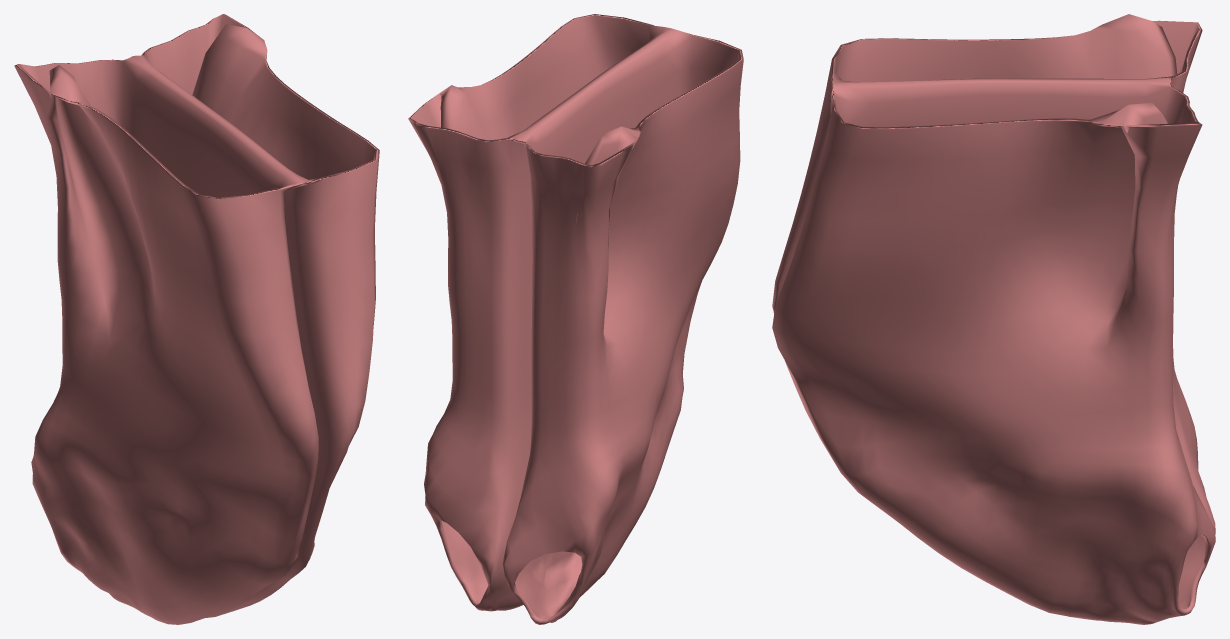
The picture shows the model from 3 angles, left to right: view 1: azimuth 30°, elevation 25°; view 2: azimuth 150°, elevation 25°; view 3: azimuth 270°, elevation 25°; orthographic projection. The views are drawn at different scales.
Parts seen in each view (by area): view 1: 鼻腔黏膜; view 2: 鼻腔黏膜; view 3: 鼻腔黏膜.
Boxes of the visible parts, <box> form: 鼻腔黏膜: <box>14,14,379,624</box>; 鼻腔黏膜: <box>408,14,743,624</box>; 鼻腔黏膜: <box>772,14,1215,624</box>.
Size of the model in its own units: 0.0402 by 0.0971 by 0.0706.
